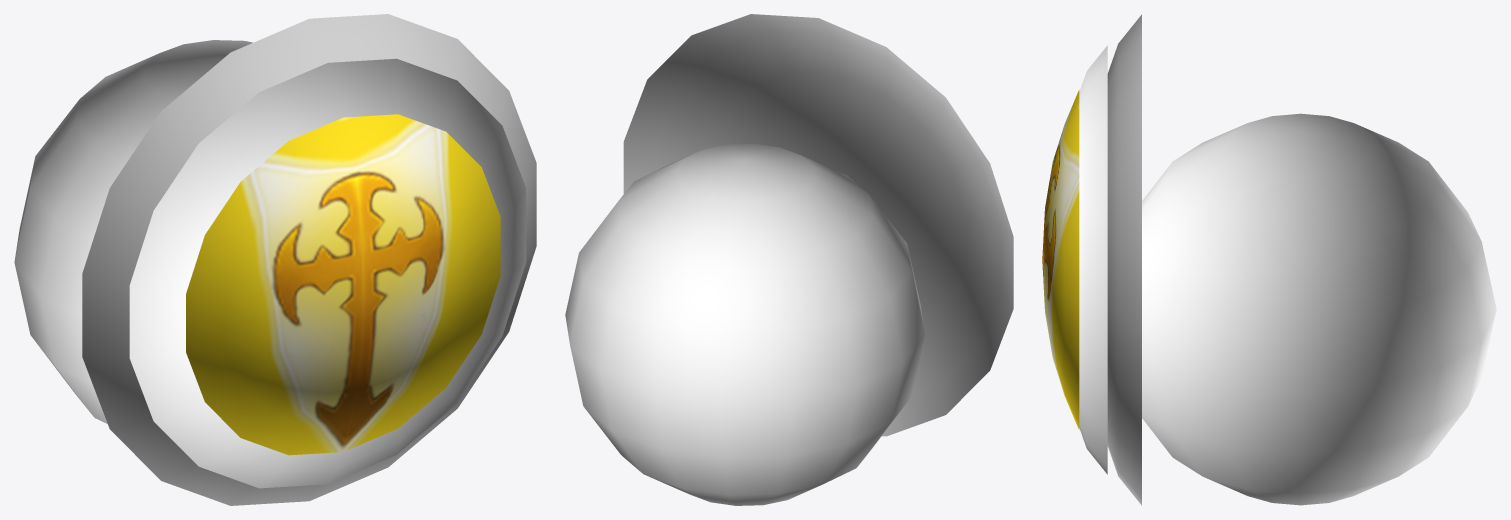
File: Eff_Overwhelm_Action1.FBX
The picture shows the model from 3 angles, left to right: view 1: azimuth 30°, elevation 25°; view 2: azimuth 150°, elevation 25°; view 3: azimuth 270°, elevation 25°; orthographic projection. The views are drawn at different scales.
Parts seen in each view (by area): view 1: Eff_Shieldcharge003, Eff_Shieldcharge001, Eff_Shieldcharge, Eff_Shield_Geo_Sphere; view 2: Eff_Shield_Geo_Sphere, Eff_Shieldcharge; view 3: Eff_Shield_Geo_Sphere, Eff_Shieldcharge, Eff_Shieldcharge001, Eff_Shieldcharge003.
Boxes of the visible parts, x1,y1,x2,y2 form: Eff_Shieldcharge003: (186,114,500,455); Eff_Shieldcharge001: (129,58,526,488); Eff_Shieldcharge: (82,14,536,505); Eff_Shield_Geo_Sphere: (14,40,252,423); Eff_Shield_Geo_Sphere: (565,144,924,505); Eff_Shieldcharge: (623,14,1013,436); Eff_Shield_Geo_Sphere: (1142,113,1496,505); Eff_Shieldcharge: (1107,14,1141,505); Eff_Shieldcharge001: (1079,45,1107,474); Eff_Shieldcharge003: (1042,90,1079,429).
Size of the model in its own units: 2.08 by 2.13 by 1.95.
